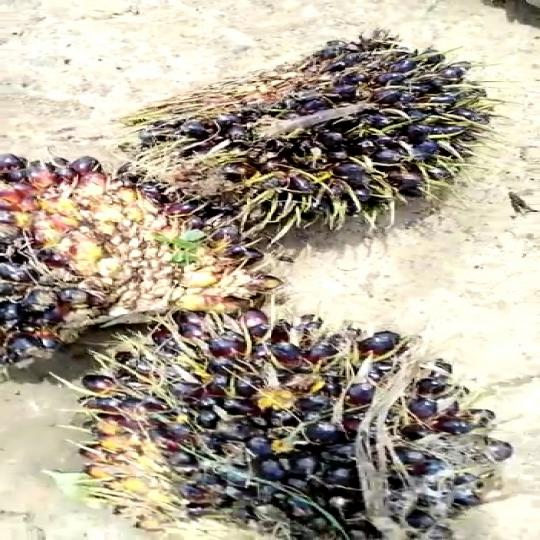mentah: (62, 290, 526, 538), (112, 26, 526, 231), (7, 137, 273, 376)
